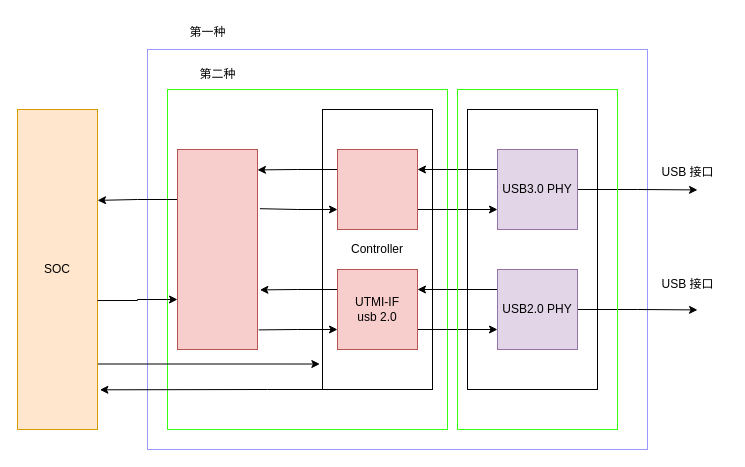
The diagram is 745 pixels wide and 467 high, and some of its shapes have lost their labels. The shapes that lost their labels are listed below. From the top down, each one's centre as x and y in pixels, then its label:
At point 377,189: "PIPE-IF usb 3.0".
At point 217,249: "FIFO".
